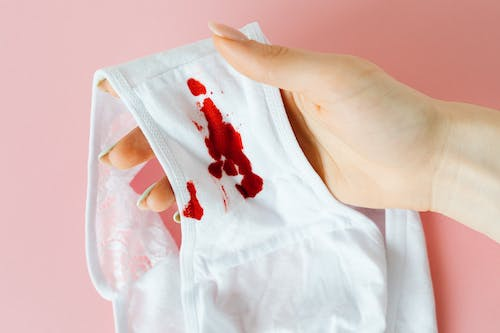blood: (180, 76, 266, 222)
